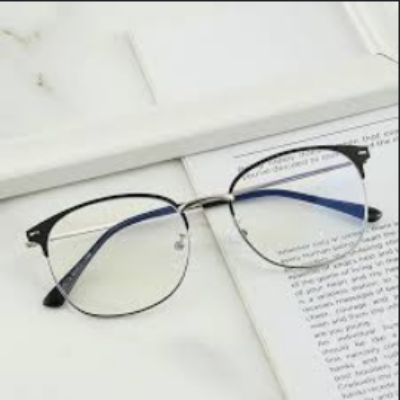glasses: (23, 143, 387, 319)
